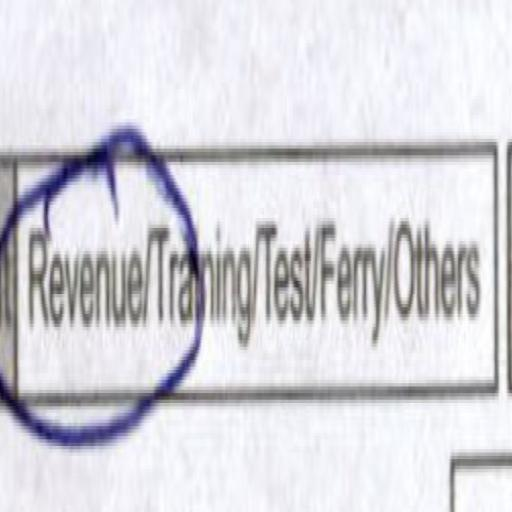check: (24, 107, 150, 461)
